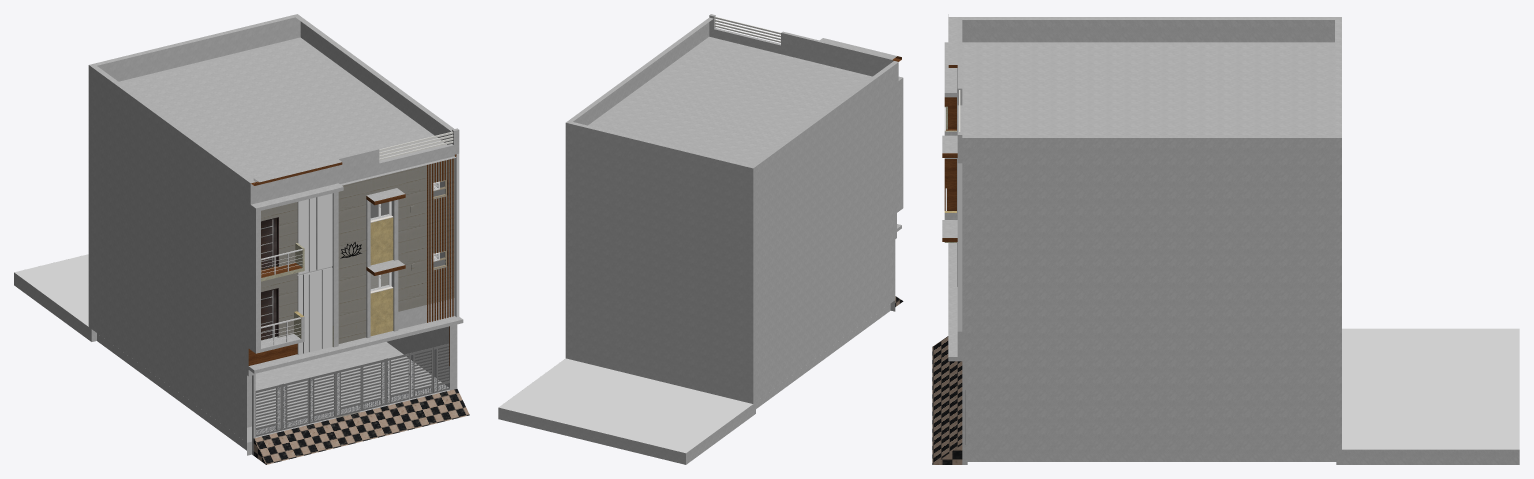
The model's file is pandian_residence.glb.
3 renders of one model, left to right at view 1: azimuth 30°, elevation 25°; view 2: azimuth 150°, elevation 25°; view 3: azimuth 270°, elevation 25°, orthographic. The views are drawn at different scales.
Parts seen in each view (by area): view 1: Geom3D (×11), Geom3D_; view 2: Geom3D (×3); view 3: Geom3D (×4).
Boxes of the visible parts, x1=… form: Geom3D (×11): x1=14, y1=14, x2=469, y2=464; Geom3D_: x1=298, y1=193, x2=332, y2=354; Geom3D (×3): x1=498, y1=14, x2=903, y2=464; Geom3D (×4): x1=932, y1=14, x2=1519, y2=464.
Bounding box in the file's own units: 9.4 × 11.95 × 19.27.
31 materials, 16 textured.
